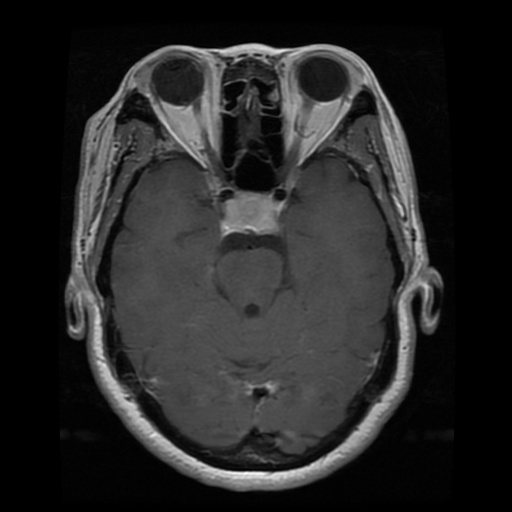pituitary: (221, 192, 280, 233)
